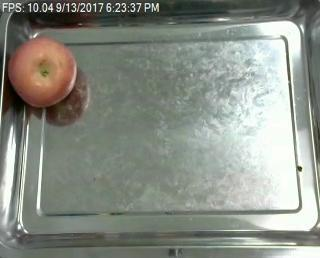apple: (7, 37, 77, 108)
